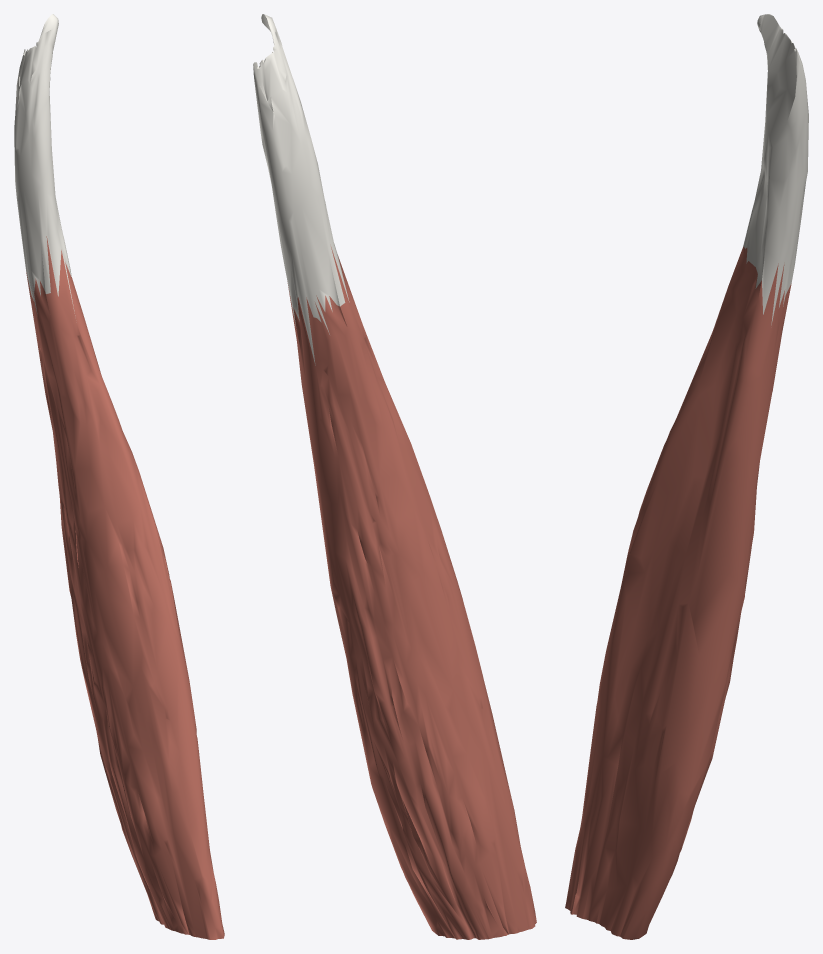
Rendered from court-extenseur-radial-carpe.glb.
The picture shows the model from 3 angles, left to right: view 1: azimuth 90°, elevation 25°; view 2: azimuth 150°, elevation 25°; view 3: azimuth 270°, elevation 25°; orthographic projection. The views are drawn at different scales.
Parts seen in each view (by area): view 1: court-extenseur-radial-carpe; view 2: court-extenseur-radial-carpe; view 3: court-extenseur-radial-carpe.
Part boxes in pixels (box(x1,y1,x2,y2)): court-extenseur-radial-carpe: box(14, 14, 224, 939); court-extenseur-radial-carpe: box(253, 14, 536, 939); court-extenseur-radial-carpe: box(565, 14, 808, 939).
Size of the model in its own units: 0.0357 by 0.1713 by 0.0387.
